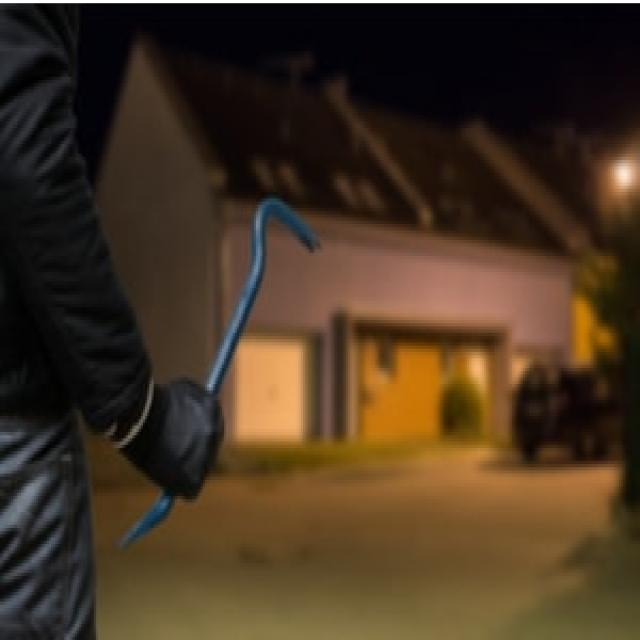intrusion detected: (0, 1, 229, 640)
